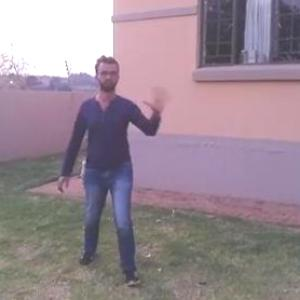follow_hand: (142, 83, 174, 116)
